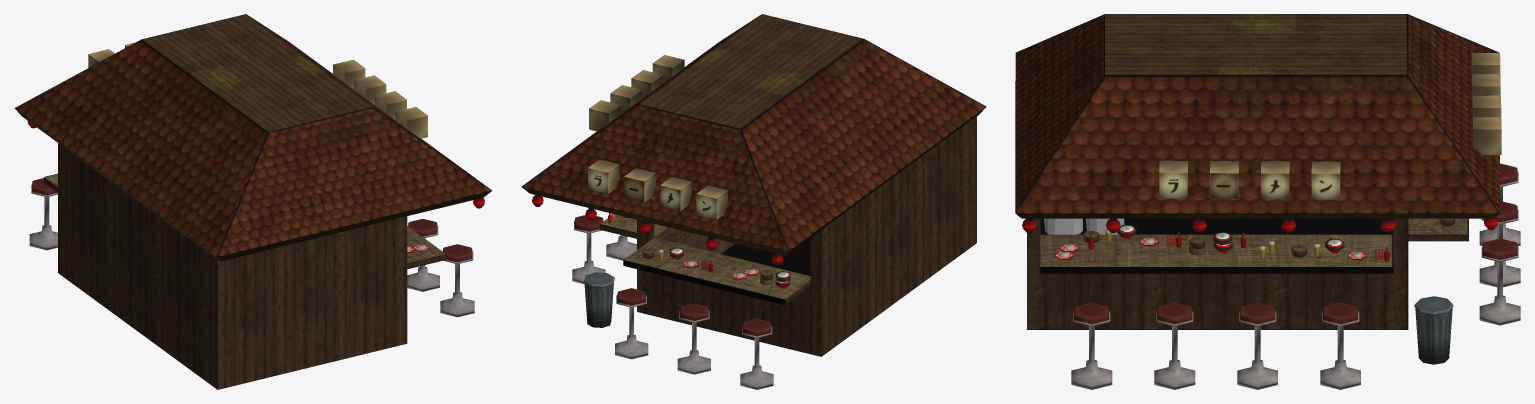
The model's file is tokyo-ramen.glb.
3 renders of one model, left to right at view 1: azimuth 30°, elevation 25°; view 2: azimuth 150°, elevation 25°; view 3: azimuth 270°, elevation 25°, orthographic. The views are drawn at different scales.
Visible parts, largest first — view 1: Box002, Object003_Material #4_0, singles_polySurface26_pCube118_28_Bar_0, singles_polySurface26_pCube118_029_Bar_0, singles_polySurface26_pCube118_034_Bar_0; view 2: Box002, Object004_Material #4_0, Object003_Material #4_0, Object015_Material #4_0, singles_polySurface26_pCube118_034_Bar_0, singles_polySurface26_pCube118_033_Bar_0, singles_polySurface26_pCube118_032_Bar_0, singles_polySurface26_pCube118_031_Bar_0, TastyFood_004_Props_0, singles_polySurface26_pCube118_030_Bar_0; view 3: Box002, Object003_Material #4_0, Object004_Material #4_0, Object015_Material #4_0, singles_polySurface26_pCube118_031_Bar_0, singles_polySurface26_pCube118_030_Bar_0, singles_polySurface26_pCube118_032_Bar_0, singles_polySurface26_pCube118_28_Bar_0, singles_polySurface26_pCube118_029_Bar_0, singles_polySurface26_pCube118_033_Bar_0, singles_polySurface26_pCube118_034_Bar_0, TastyFood_003_Props_0 (+2 smaller).
Boxes of the visible parts, left/top/right/bottom form: Box002: left=14, top=14, right=492, bottom=389; Object003_Material #4_0: left=333, top=59, right=427, bottom=138; singles_polySurface26_pCube118_28_Bar_0: left=440, top=244, right=474, bottom=317; singles_polySurface26_pCube118_029_Bar_0: left=407, top=218, right=439, bottom=291; singles_polySurface26_pCube118_034_Bar_0: left=29, top=178, right=57, bottom=250; Box002: left=521, top=14, right=986, bottom=356; Object004_Material #4_0: left=588, top=159, right=727, bottom=219; Object003_Material #4_0: left=589, top=55, right=684, bottom=131; Object015_Material #4_0: left=583, top=272, right=614, bottom=327; singles_polySurface26_pCube118_034_Bar_0: left=740, top=318, right=773, bottom=389; singles_polySurface26_pCube118_033_Bar_0: left=677, top=303, right=710, bottom=374; singles_polySurface26_pCube118_032_Bar_0: left=615, top=288, right=648, bottom=359; singles_polySurface26_pCube118_031_Bar_0: left=572, top=215, right=605, bottom=284; TastyFood_004_Props_0: left=642, top=247, right=713, bottom=272; singles_polySurface26_pCube118_030_Bar_0: left=606, top=235, right=636, bottom=260; Box002: left=1015, top=14, right=1499, bottom=329; Object003_Material #4_0: left=1159, top=160, right=1340, bottom=199; Object004_Material #4_0: left=1471, top=52, right=1501, bottom=155; Object015_Material #4_0: left=1414, top=296, right=1453, bottom=364; singles_polySurface26_pCube118_031_Bar_0: left=1320, top=302, right=1360, bottom=389; singles_polySurface26_pCube118_030_Bar_0: left=1237, top=302, right=1277, bottom=389; singles_polySurface26_pCube118_032_Bar_0: left=1479, top=238, right=1520, bottom=325; singles_polySurface26_pCube118_28_Bar_0: left=1071, top=302, right=1112, bottom=389; singles_polySurface26_pCube118_029_Bar_0: left=1154, top=302, right=1195, bottom=389; singles_polySurface26_pCube118_033_Bar_0: left=1479, top=201, right=1520, bottom=287; singles_polySurface26_pCube118_034_Bar_0: left=1479, top=163, right=1520, bottom=246; TastyFood_003_Props_0: left=1291, top=239, right=1389, bottom=261.
Bounding box in the file's own units: 1367 × 1010 × 1735.
4 materials, 4 textured.
